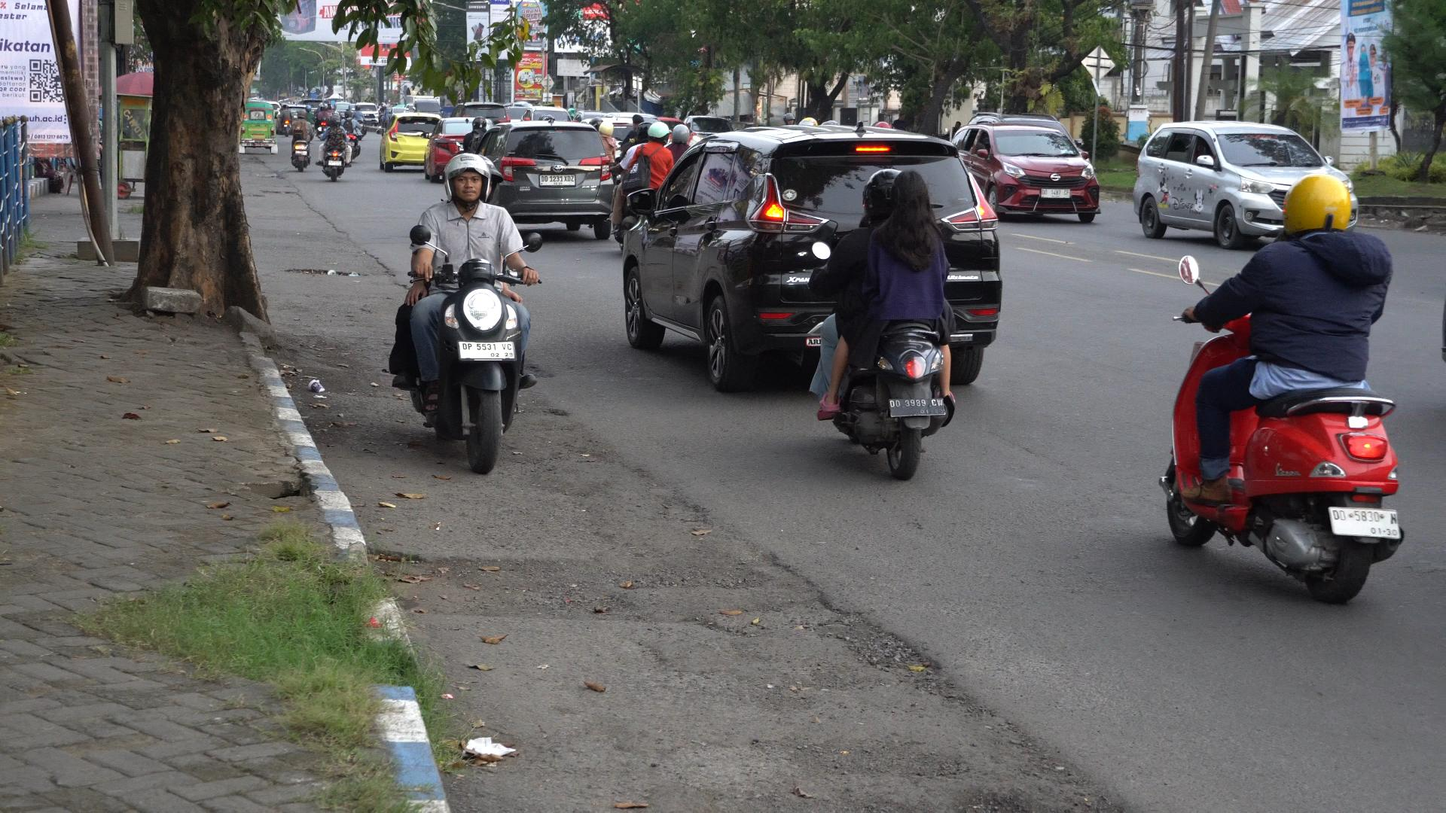number-plate: (459, 339, 517, 362)
